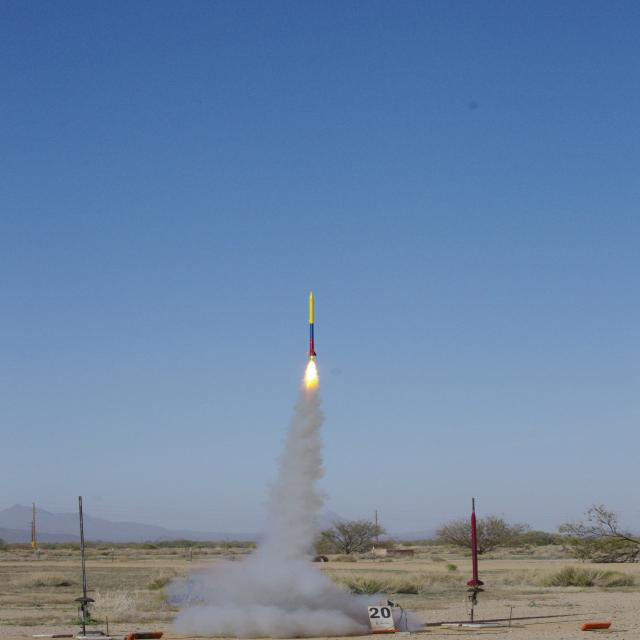Rocket: (466, 510, 484, 587), (306, 291, 316, 357)
